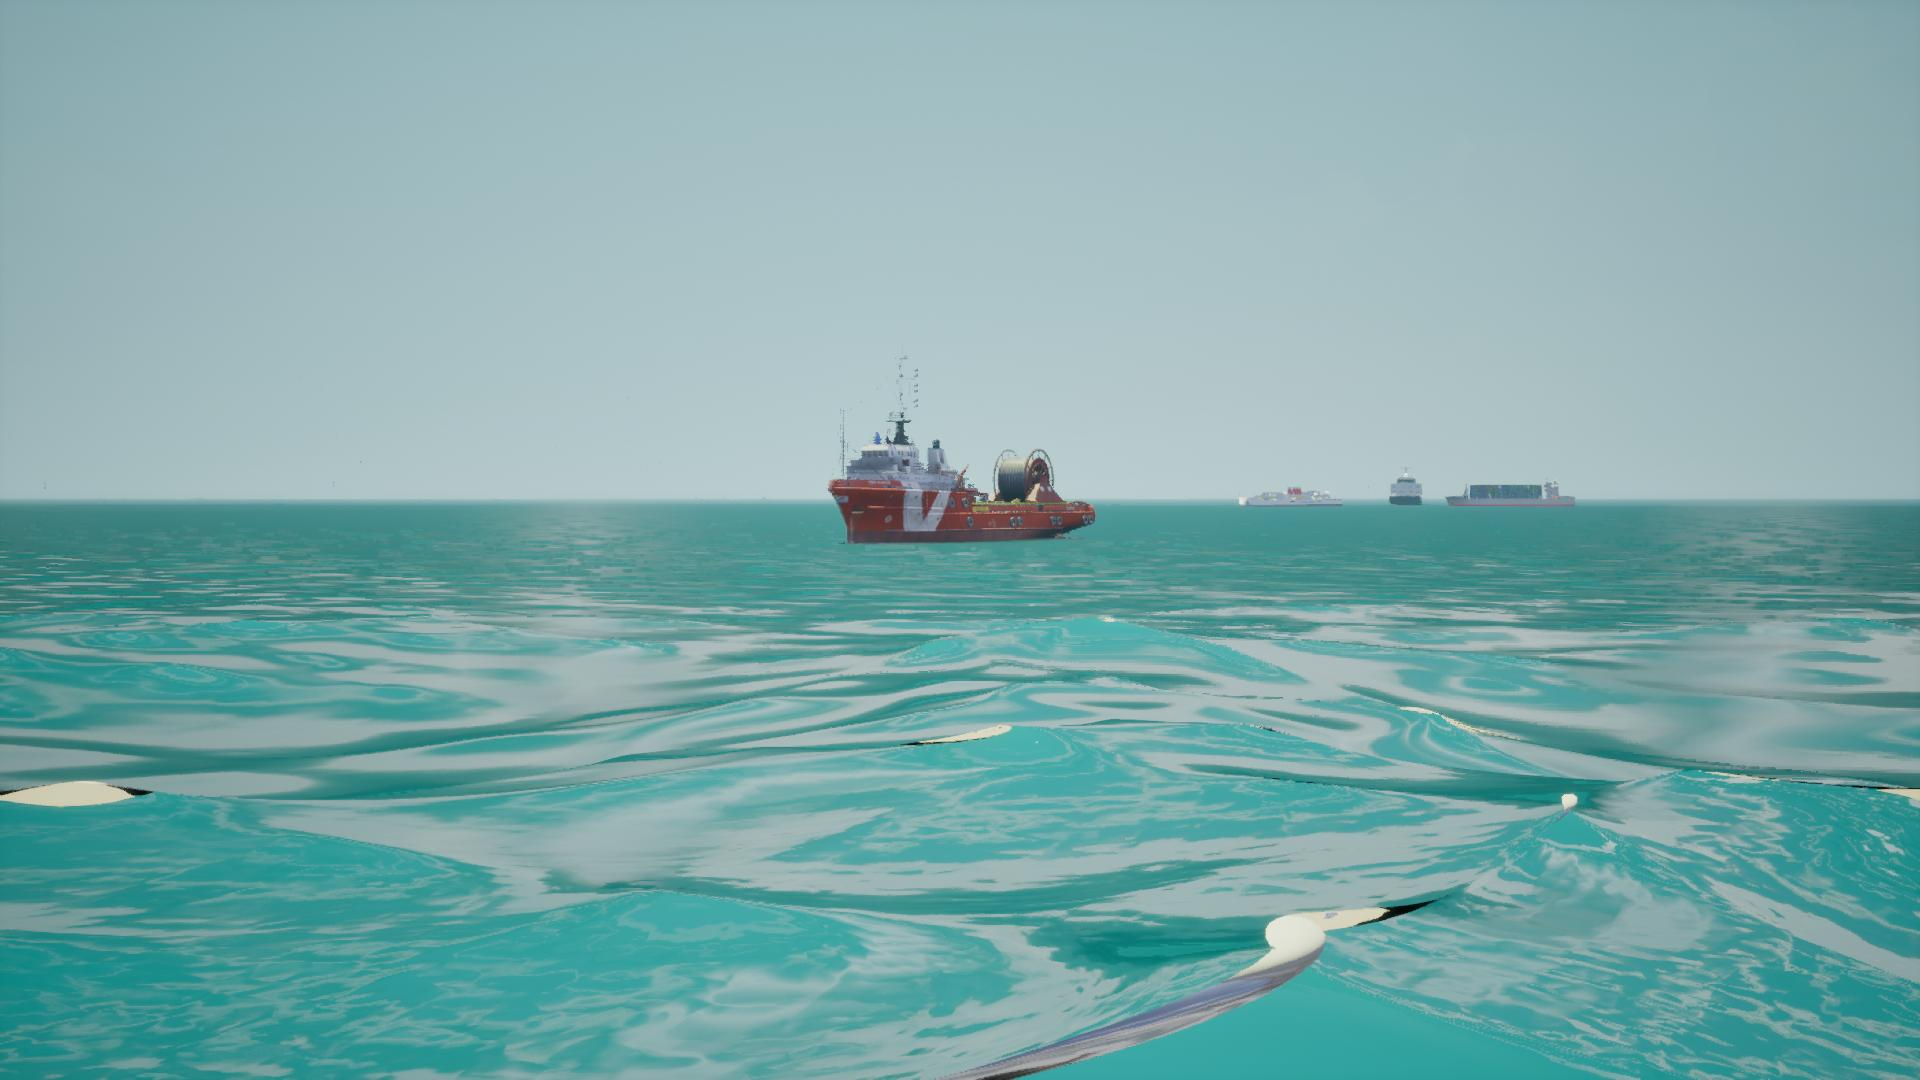Tug Boat: (827, 356, 1088, 546), (1441, 480, 1573, 510)
